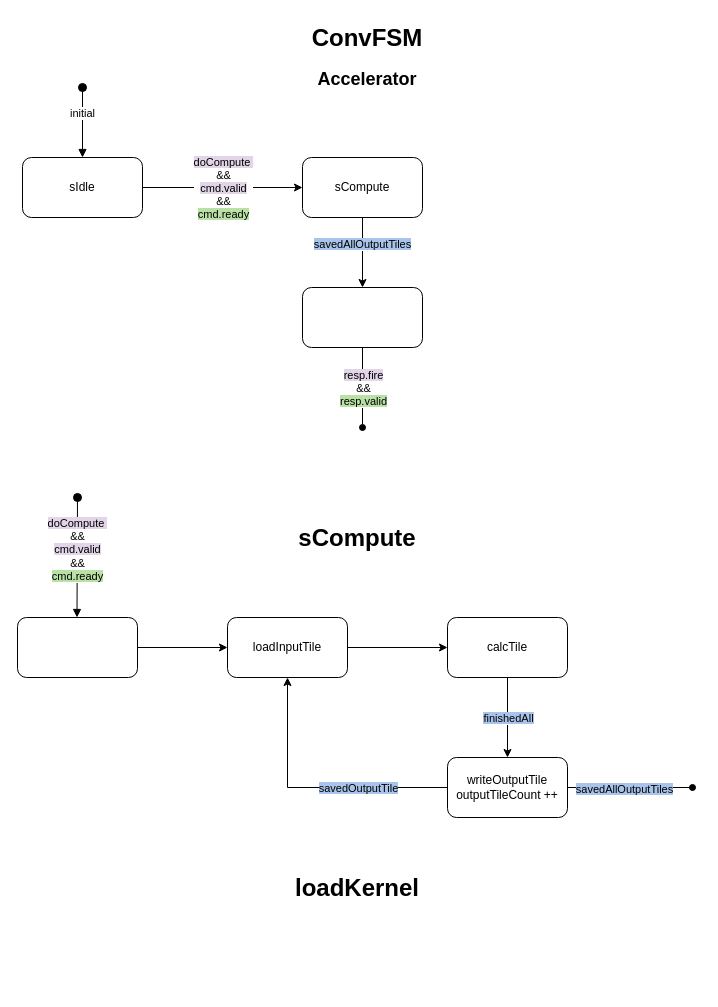
The diagram is 718 pixels wide and 1007 high, and some of its shapes have lost their labels. The shapes that lost their labels are listed below. From the top down, each one's centre as x and y in pixels, then its label:
(362,317): sDone
(77,647): loadKernel - padSize - numTiles
